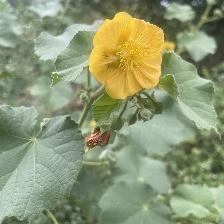indian mallow: (90, 11, 167, 103)
